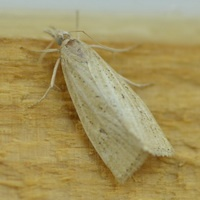insect: (45, 27, 173, 182)
